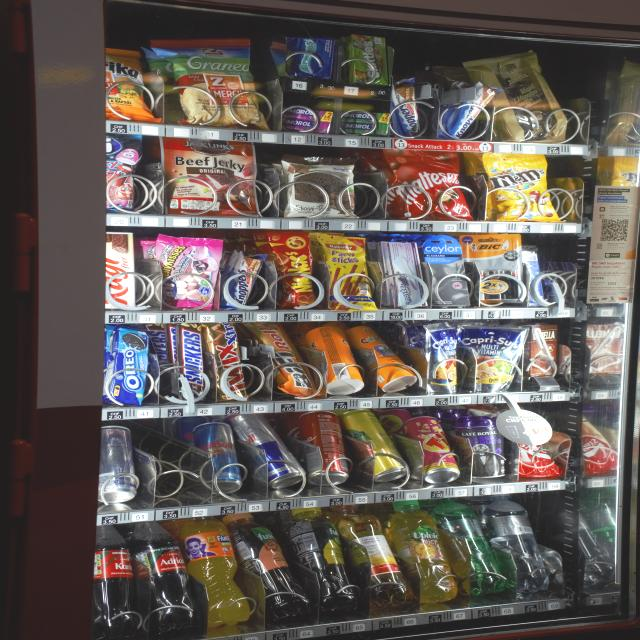7days_croissantschoko_packung_80_1_0000000000003: (521, 415, 553, 480)
airwaves_menthoneucalyptus_riegel_14_1_50173167: (295, 33, 330, 77)
berger____: (275, 156, 364, 221)
bifi_roll__50__4251097402635: (253, 320, 319, 398)
c-swiss_dosenabisicetea__33__9120025930135: (344, 318, 424, 396), (299, 324, 368, 398)
caferoyal_classicmacchiato__33__7617014164487: (463, 416, 509, 478)
caprisun_multivitamin__20__4000177605004: (459, 320, 529, 396), (408, 320, 470, 398)
coke__dose_33__54491472: (303, 412, 348, 482)
coke__flasche_50__54491472: (92, 526, 140, 634)
coke_zero_flasche_50__5449000131836: (134, 520, 202, 626)
comella_schokodrink__33__7613100037253: (519, 318, 565, 392)
evian___50__3068320353500: (475, 492, 557, 596)
fanta___50__40822938: (174, 514, 258, 624)
fini_jellykisses_packung_80_1_8410525116704: (155, 235, 222, 307)
fuse_lemon__50__5449000235947: (297, 503, 368, 612)
fuse_lemon_dose_33__5449000235947: (349, 410, 404, 474)
fuse_peach__50__5449000236623: (220, 509, 312, 624)
jacklinks_beefjerkyorginal__25__4047751730219: (153, 130, 267, 218)
jlbrichard_gauffrechoko__90__5410495002079: (488, 60, 573, 142)
kagi___50__7610046000259: (90, 228, 142, 312)
knoppers_riegel____4035800488808: (442, 72, 503, 146), (382, 75, 436, 138), (224, 248, 267, 310)
lorenz_nicnacs__40__4018077798818: (263, 229, 326, 311)
malburner_partysticks__40__7610200279682: (309, 229, 381, 314)
maltesers___100__5000159023061: (382, 144, 478, 222)
mnms_gelb__45__40111445: (467, 145, 572, 223)
oreo___66__84100733: (100, 323, 164, 411)
redbull___33__90162909: (224, 412, 310, 492), (93, 421, 144, 511)
redbull_light__33__90162800: (187, 420, 252, 501)
skittles_sour_riegel_51_1_: (350, 33, 394, 83)
snickers___50__5000159461122: (166, 317, 218, 410)
stimorol_spearmint_riegel_14_1_: (335, 108, 390, 138)
stimorol_wildcherry_riegel_14_1_57060330: (281, 106, 335, 135)
tiki_himbeerbrause_dose_33_1_: (408, 413, 460, 479)
twix___50__5000159459228: (193, 319, 259, 402)
valser_classic__50__76404160: (428, 493, 507, 599)
volvic_pinapple__50__305764335648: (375, 496, 465, 603)
zweifel_graneochilli__100__7610095184009: (167, 36, 263, 132)
zweifel_paprika__90__7610095013002: (93, 43, 144, 115)
